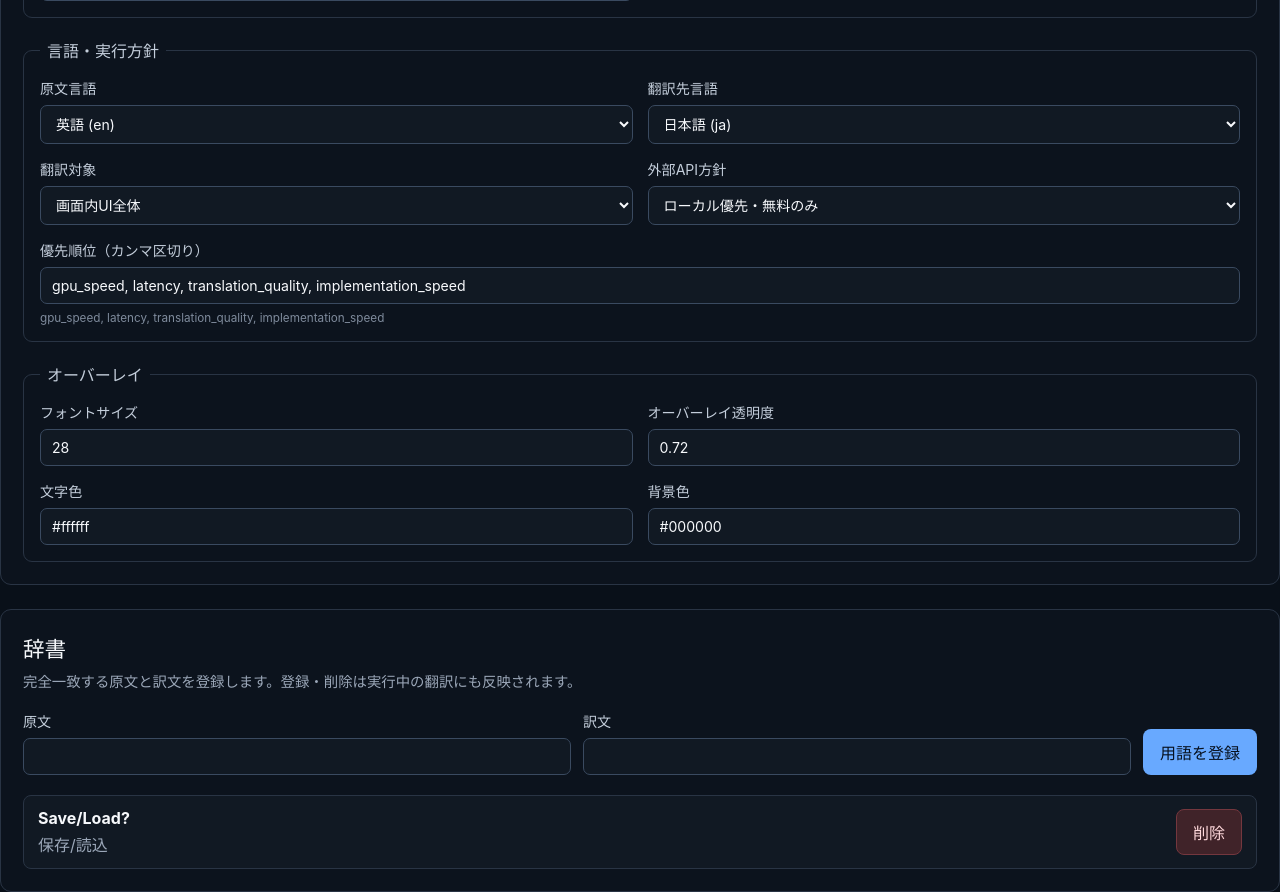
Test: SettingsPanel › 確認後にURLエンコードして削除し、一覧を再取得する
This screenshot has width=1280, height=892.
(page scrolled)
What coordinates should you click on to do the following:
click the button with aria-label "Save/Load? を削除"
I would click on:
 (1209, 832)
Its box is [1176,809,1242,855].
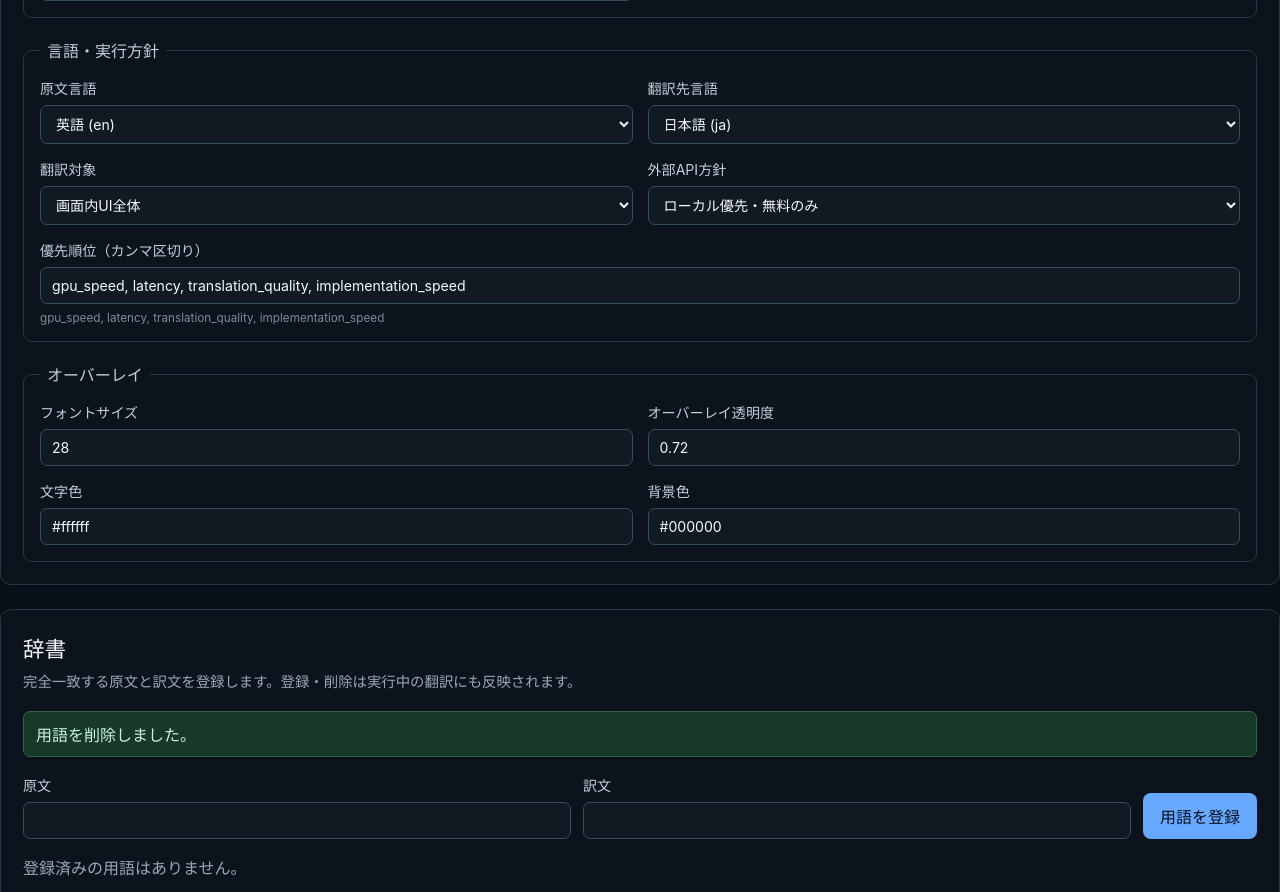
Result: the text "Save/Load?" is gone
